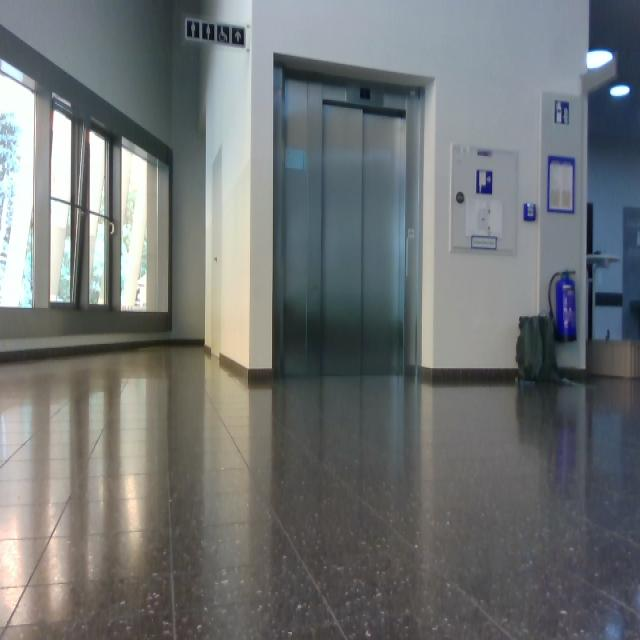door: (275, 68, 425, 378)
fire extinguisher: (549, 269, 577, 342)
light bulb: (586, 49, 614, 70), (609, 84, 631, 98)
tiled floor: (2, 341, 639, 638)
window: (1, 56, 173, 333), (1, 60, 36, 309)
